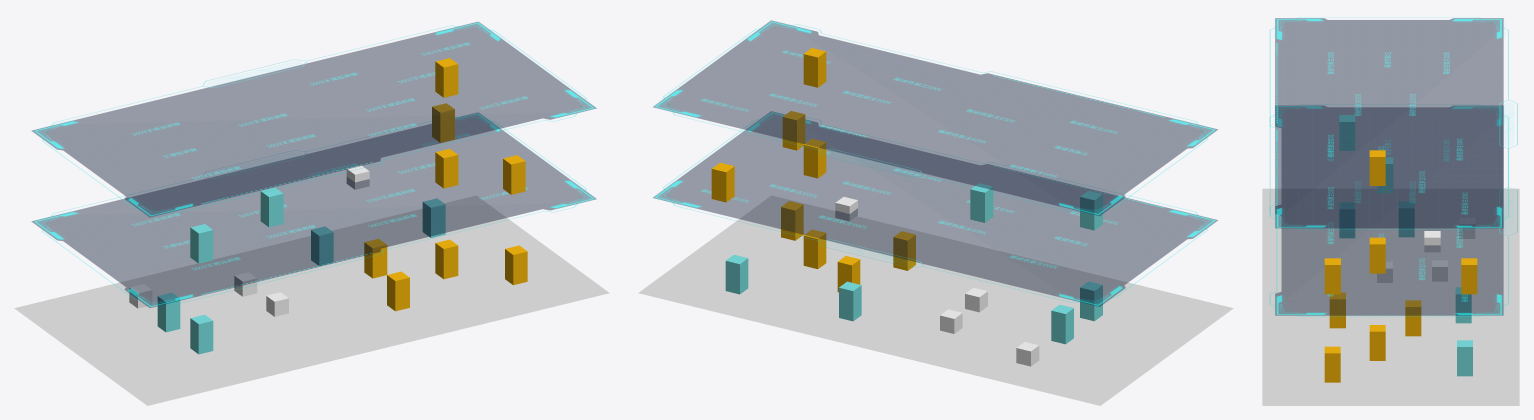
3 views of the same model, side by side, from view 1: azimuth 30°, elevation 25°; view 2: azimuth 150°, elevation 25°; view 3: azimuth 270°, elevation 25° (orthographic). The views are drawn at different scales.
Visible parts, largest first — view 1: Plane 1, Plane 3, Plane 2, Box 10 (×5), Box 3 (×3), Box 7, Box 9, Box 2, Box 8, Box 11, Box 6; view 2: Plane 1, Plane 3, Plane 2, Box 10 (×5), Box 3 (×3), Box 9, Box 6, Box 2, Box 8, Box 11, Box 7; view 3: Plane 1, Plane 3, Plane 2, Box 10 (×5), Box 3 (×3), Box 11, Box 5 (×2), Box 7, Box 8, Box 2, Box 9, Box 6 (+2 smaller).
Boxes of the visible parts, x1=… form: Plane 1: x1=14, y1=195, x2=609, y2=405; Plane 3: x1=32, y1=22, x2=596, y2=217; Plane 2: x1=31, y1=112, x2=596, y2=307; Box 10 (×5): x1=432, y1=58, x2=525, y2=279; Box 3 (×3): x1=190, y1=187, x2=283, y2=354; Box 7: x1=364, y1=239, x2=387, y2=278; Box 9: x1=422, y1=198, x2=445, y2=237; Box 2: x1=157, y1=292, x2=180, y2=332; Box 8: x1=387, y1=271, x2=409, y2=311; Box 11: x1=505, y1=245, x2=527, y2=285; Box 6: x1=311, y1=226, x2=333, y2=265; Plane 1: x1=638, y1=195, x2=1233, y2=405; Plane 3: x1=653, y1=20, x2=1217, y2=215; Plane 2: x1=653, y1=111, x2=1217, y2=306; Box 10 (×5): x1=711, y1=48, x2=826, y2=268; Box 3 (×3): x1=970, y1=183, x2=1102, y2=321; Box 9: x1=725, y1=254, x2=748, y2=294; Box 6: x1=839, y1=281, x2=861, y2=321; Box 2: x1=1051, y1=304, x2=1073, y2=344; Box 8: x1=893, y1=231, x2=915, y2=270; Box 11: x1=781, y1=201, x2=803, y2=240; Box 7: x1=837, y1=256, x2=860, y2=292; Plane 1: x1=1262, y1=188, x2=1519, y2=405; Plane 3: x1=1270, y1=17, x2=1517, y2=229; Plane 2: x1=1270, y1=105, x2=1517, y2=316; Box 10 (×5): x1=1324, y1=150, x2=1477, y2=360; Box 3 (×3): x1=1339, y1=115, x2=1393, y2=238; Box 11: x1=1324, y1=346, x2=1340, y2=382; Box 5 (×2): x1=1377, y1=231, x2=1440, y2=282; Box 7: x1=1405, y1=300, x2=1421, y2=336; Box 8: x1=1329, y1=292, x2=1345, y2=328; Box 2: x1=1398, y1=201, x2=1414, y2=237; Box 9: x1=1457, y1=340, x2=1472, y2=376; Box 6: x1=1455, y1=287, x2=1471, y2=323.
Bounding box in the file's own units: 32 × 14 × 16.
20 materials, 2 textured.
